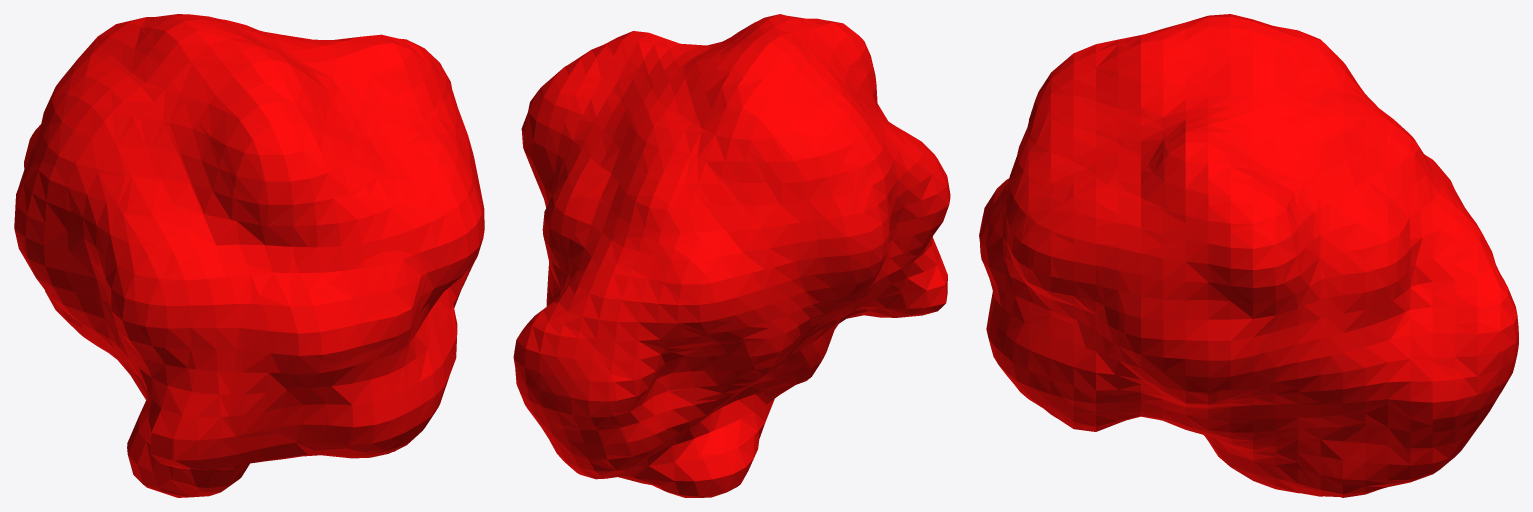
File: yafV_coarse.dae
3 views of the same model, side by side, from view 1: azimuth 30°, elevation 25°; view 2: azimuth 150°, elevation 25°; view 3: azimuth 270°, elevation 25° (orthographic). The views are drawn at different scales.
Visible parts, largest first — view 1: yafV; view 2: yafV; view 3: yafV.
Part boxes in pixels (x1=…): yafV: x1=14, y1=14, x2=484, y2=497; yafV: x1=513, y1=14, x2=950, y2=497; yafV: x1=979, y1=14, x2=1518, y2=497.
Bounding box in the file's own units: 45.56 × 52.22 × 56.11.
